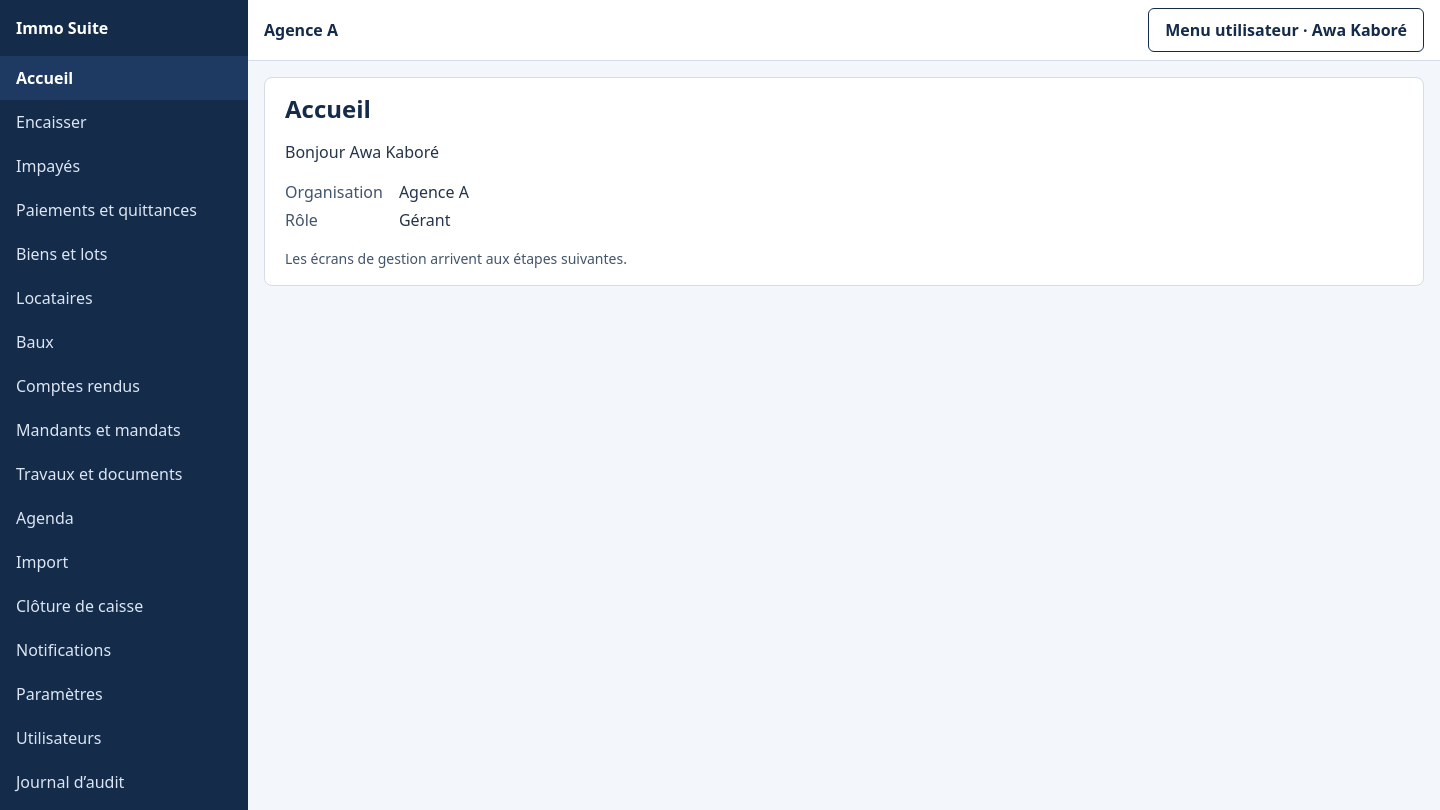
Test: « Signaler un problème » › envoie la catégorie, la description, le rappel et le contexte, avec une clé d’idempotence, puis affiche la référence
Click the button "Menu utilisateur · Awa Kaboré" at (1286, 30), box [1148,8,1424,52]
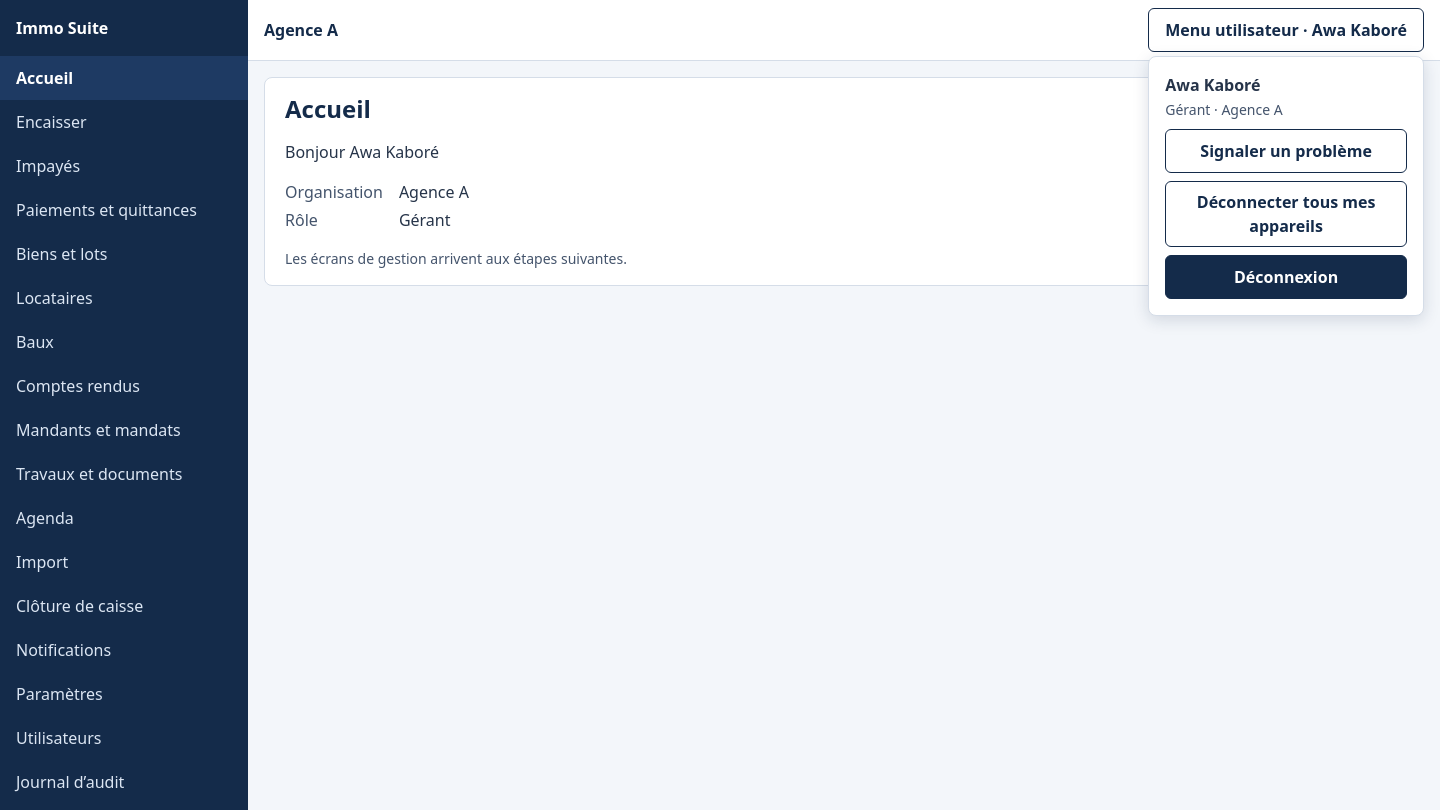
Click the button "Signaler un problème" at (1286, 151), box [1165,129,1407,173]
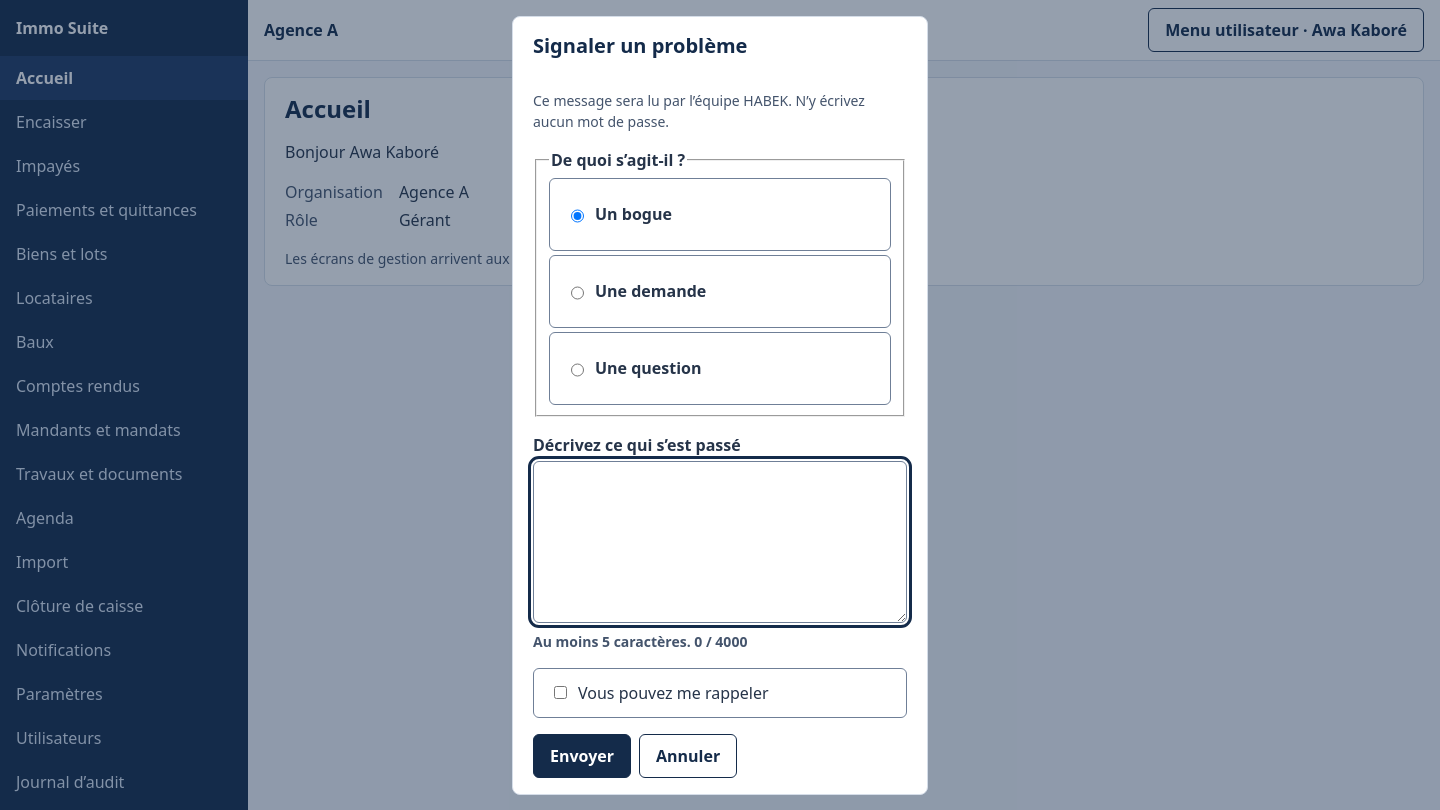
Click the radio button labelled "Une demande" at (578, 293), box [571,271,584,315]
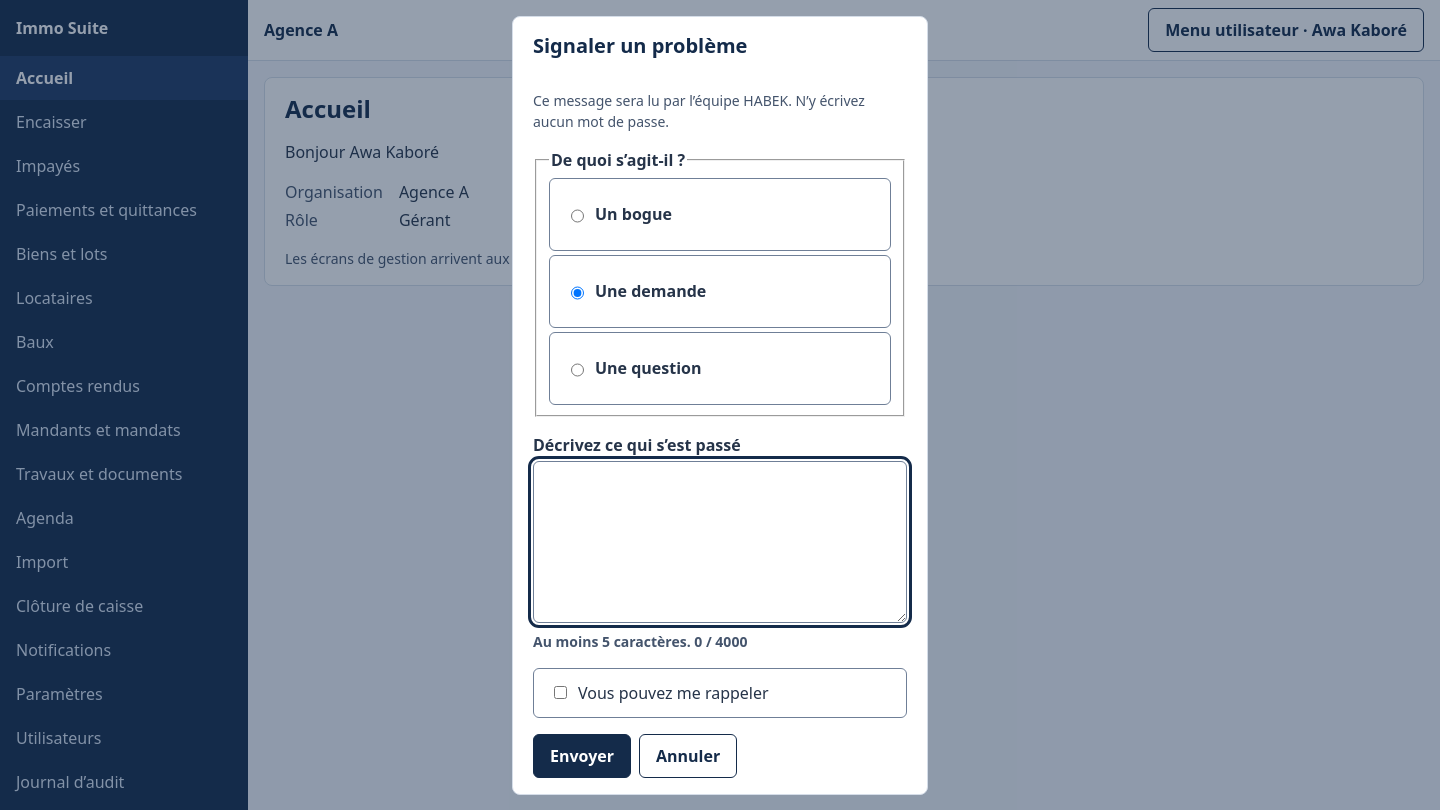
Type "Le bouton ne répond plus" into the text box labelled "Décrivez ce qui s’est passé" at (720, 542), box [533,461,907,623]
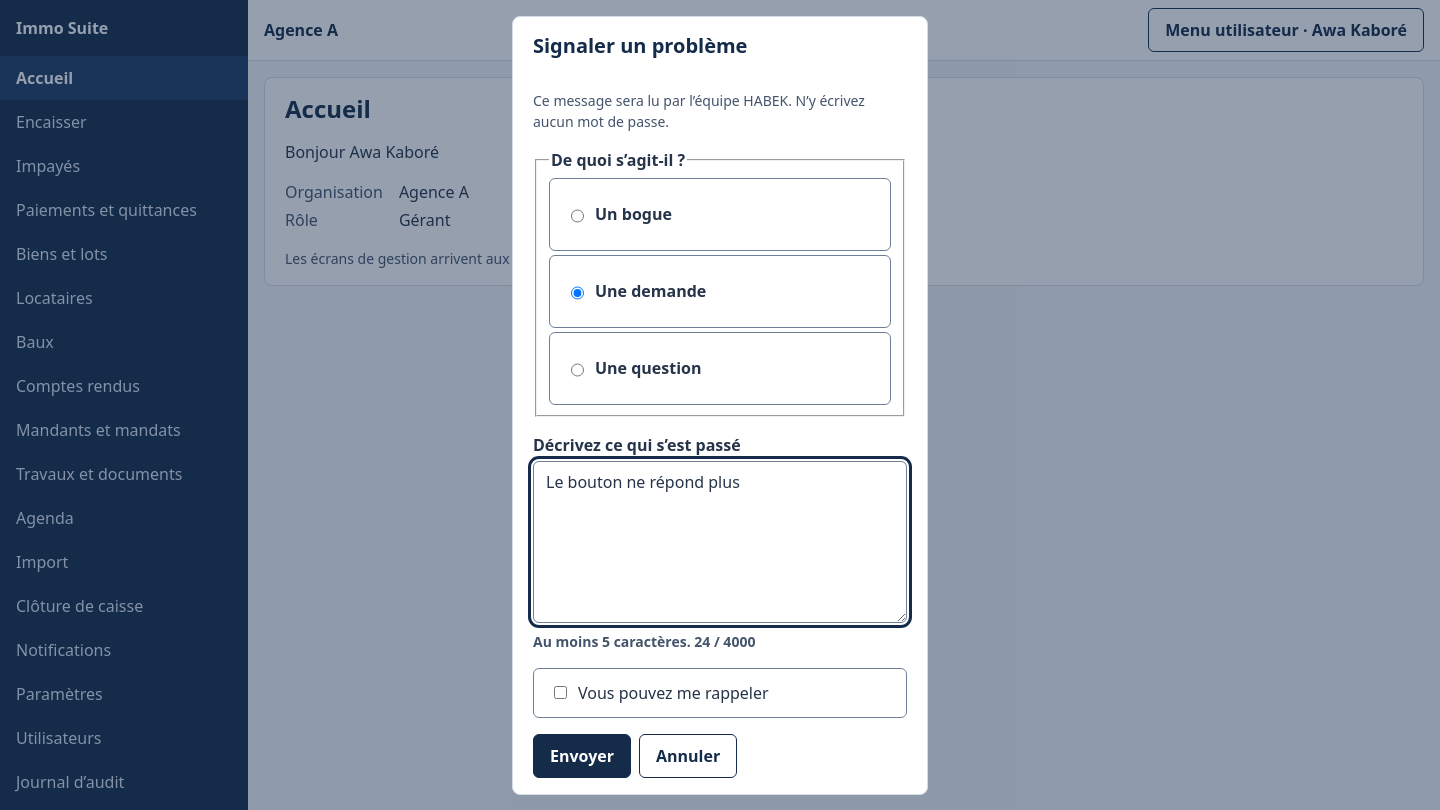
Click the checkbox labelled "Vous pouvez me rappeler" at (560, 693), box [554,686,567,699]
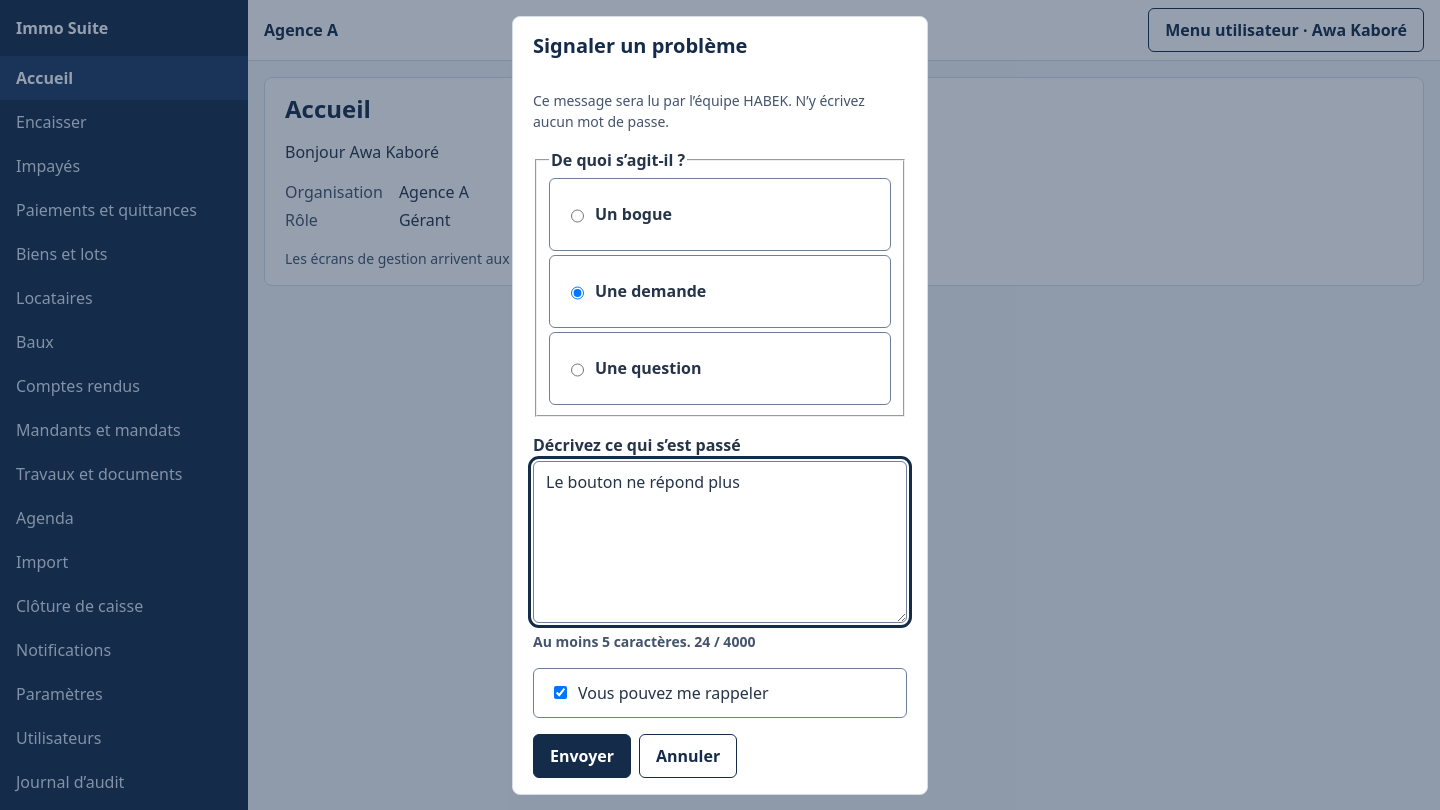
Click the button "Envoyer" at (582, 756), box [533,734,631,778]
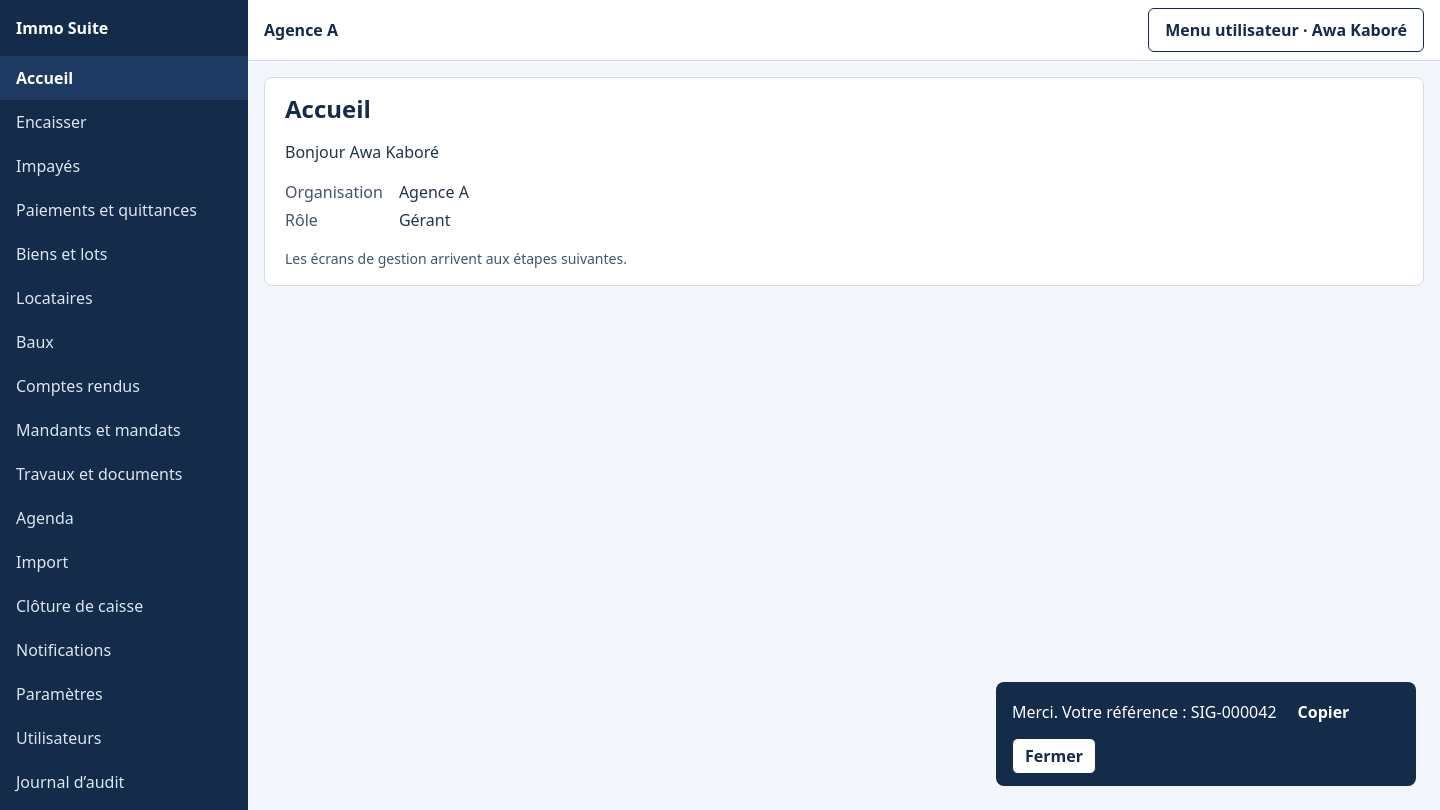
Expected: the text "Merci. Votre référence : SIG-000042" is shown, [1012,700,1277,724]
Expected: the dialog is gone
